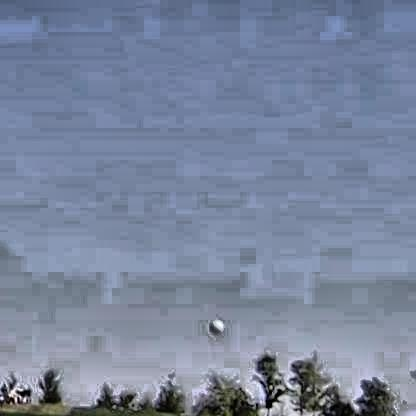golfball: (206, 314, 221, 332)
